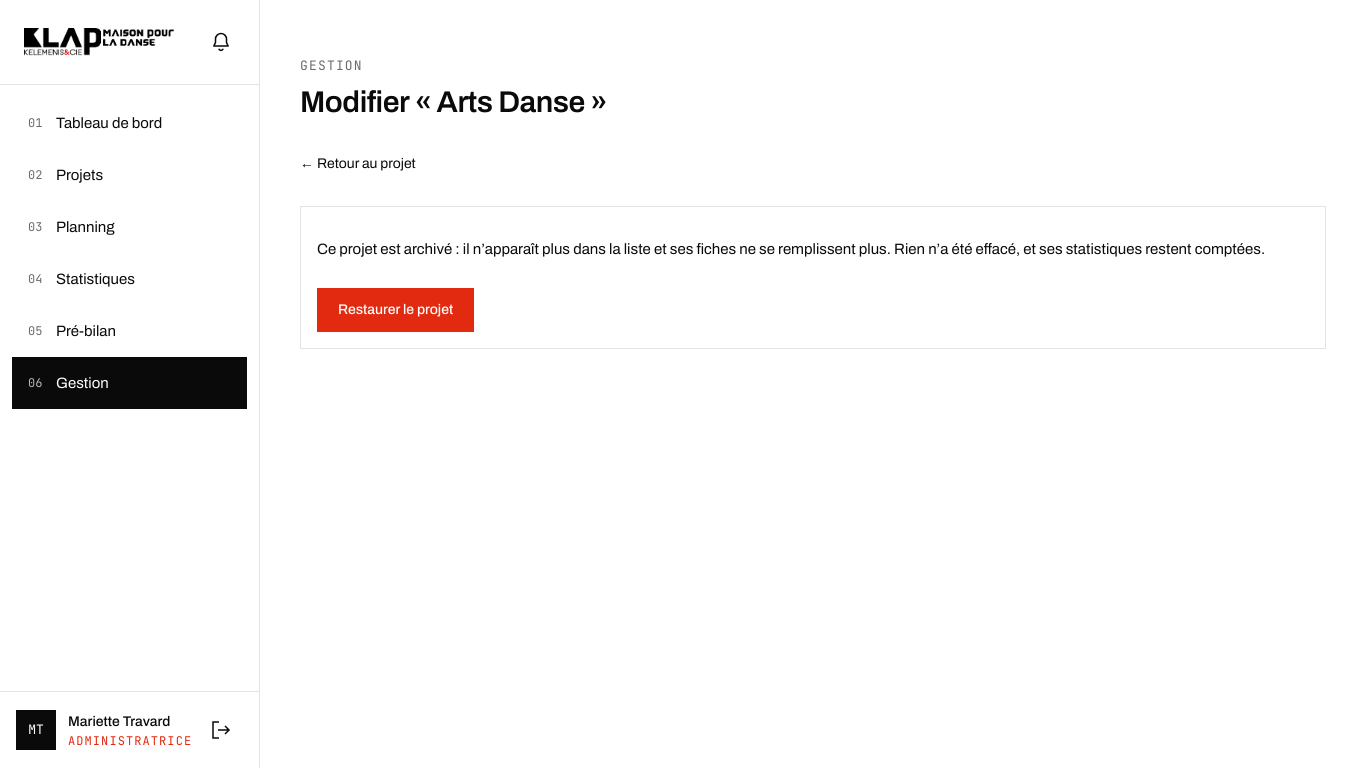
Test: Modifier un projet › restaure un projet archivé
The width and height of the screenshot is (1366, 768).
What coordinates should you click on to do the following:
click the button "Restaurer le projet"
I would click on:
 (396, 310)
Its box is x1=317 y1=288 x2=474 y2=332.
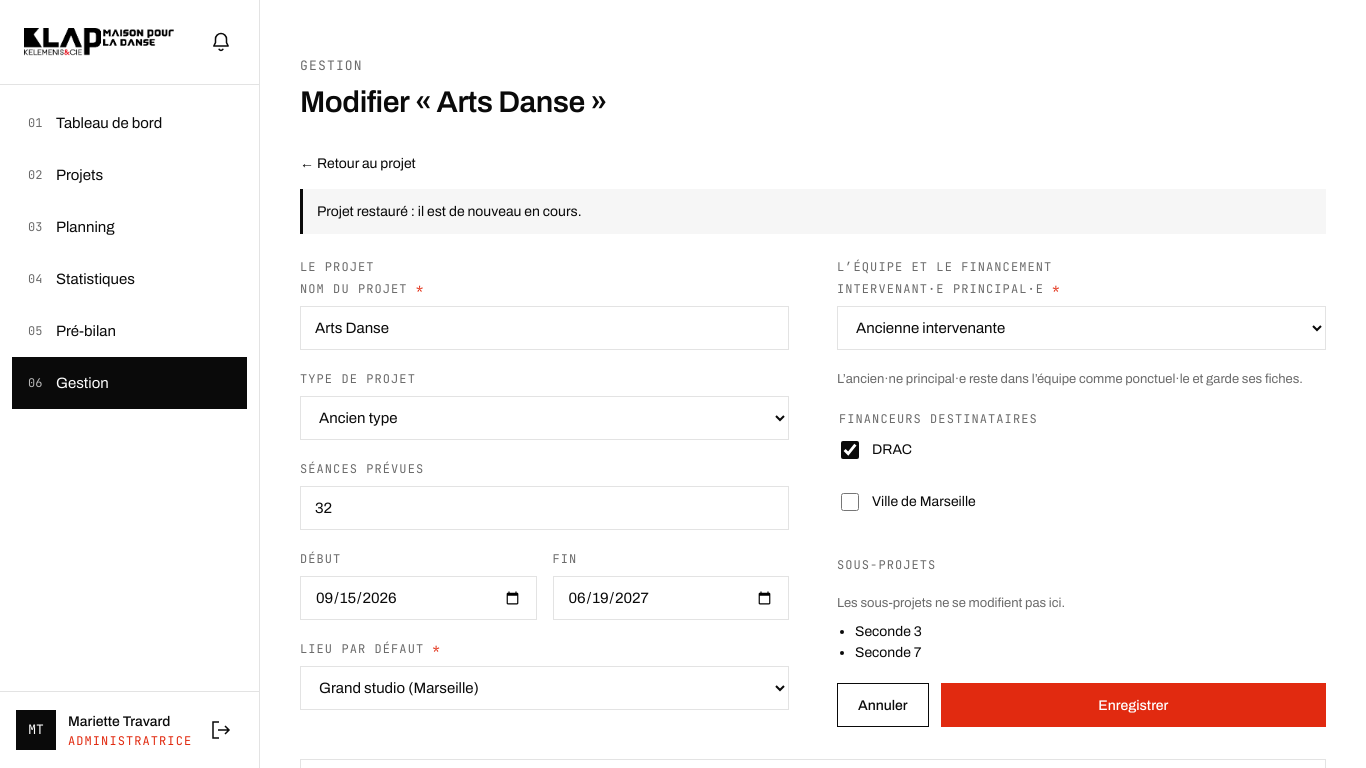
Now the message shows "Projet restauré", box x1=317 y1=204 x2=582 y2=219
Now the field labelled "Nom du projet *" holds "Arts Danse", box x1=300 y1=306 x2=789 y2=350
